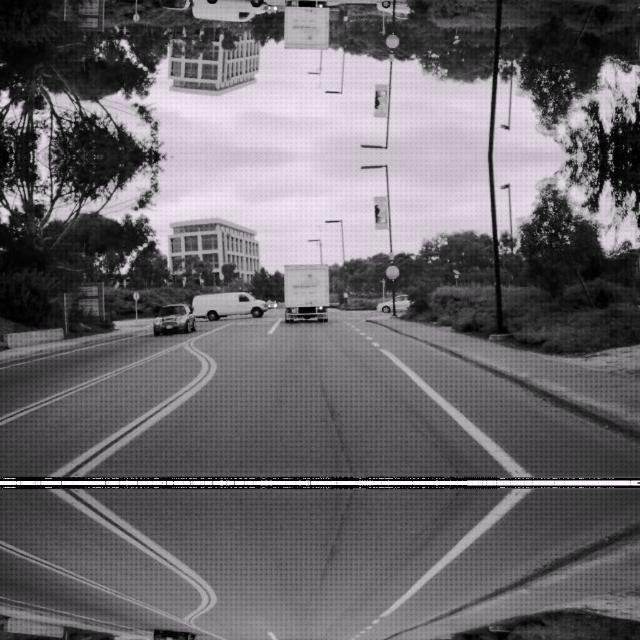stop: (385, 264, 399, 278), (385, 34, 399, 48)
